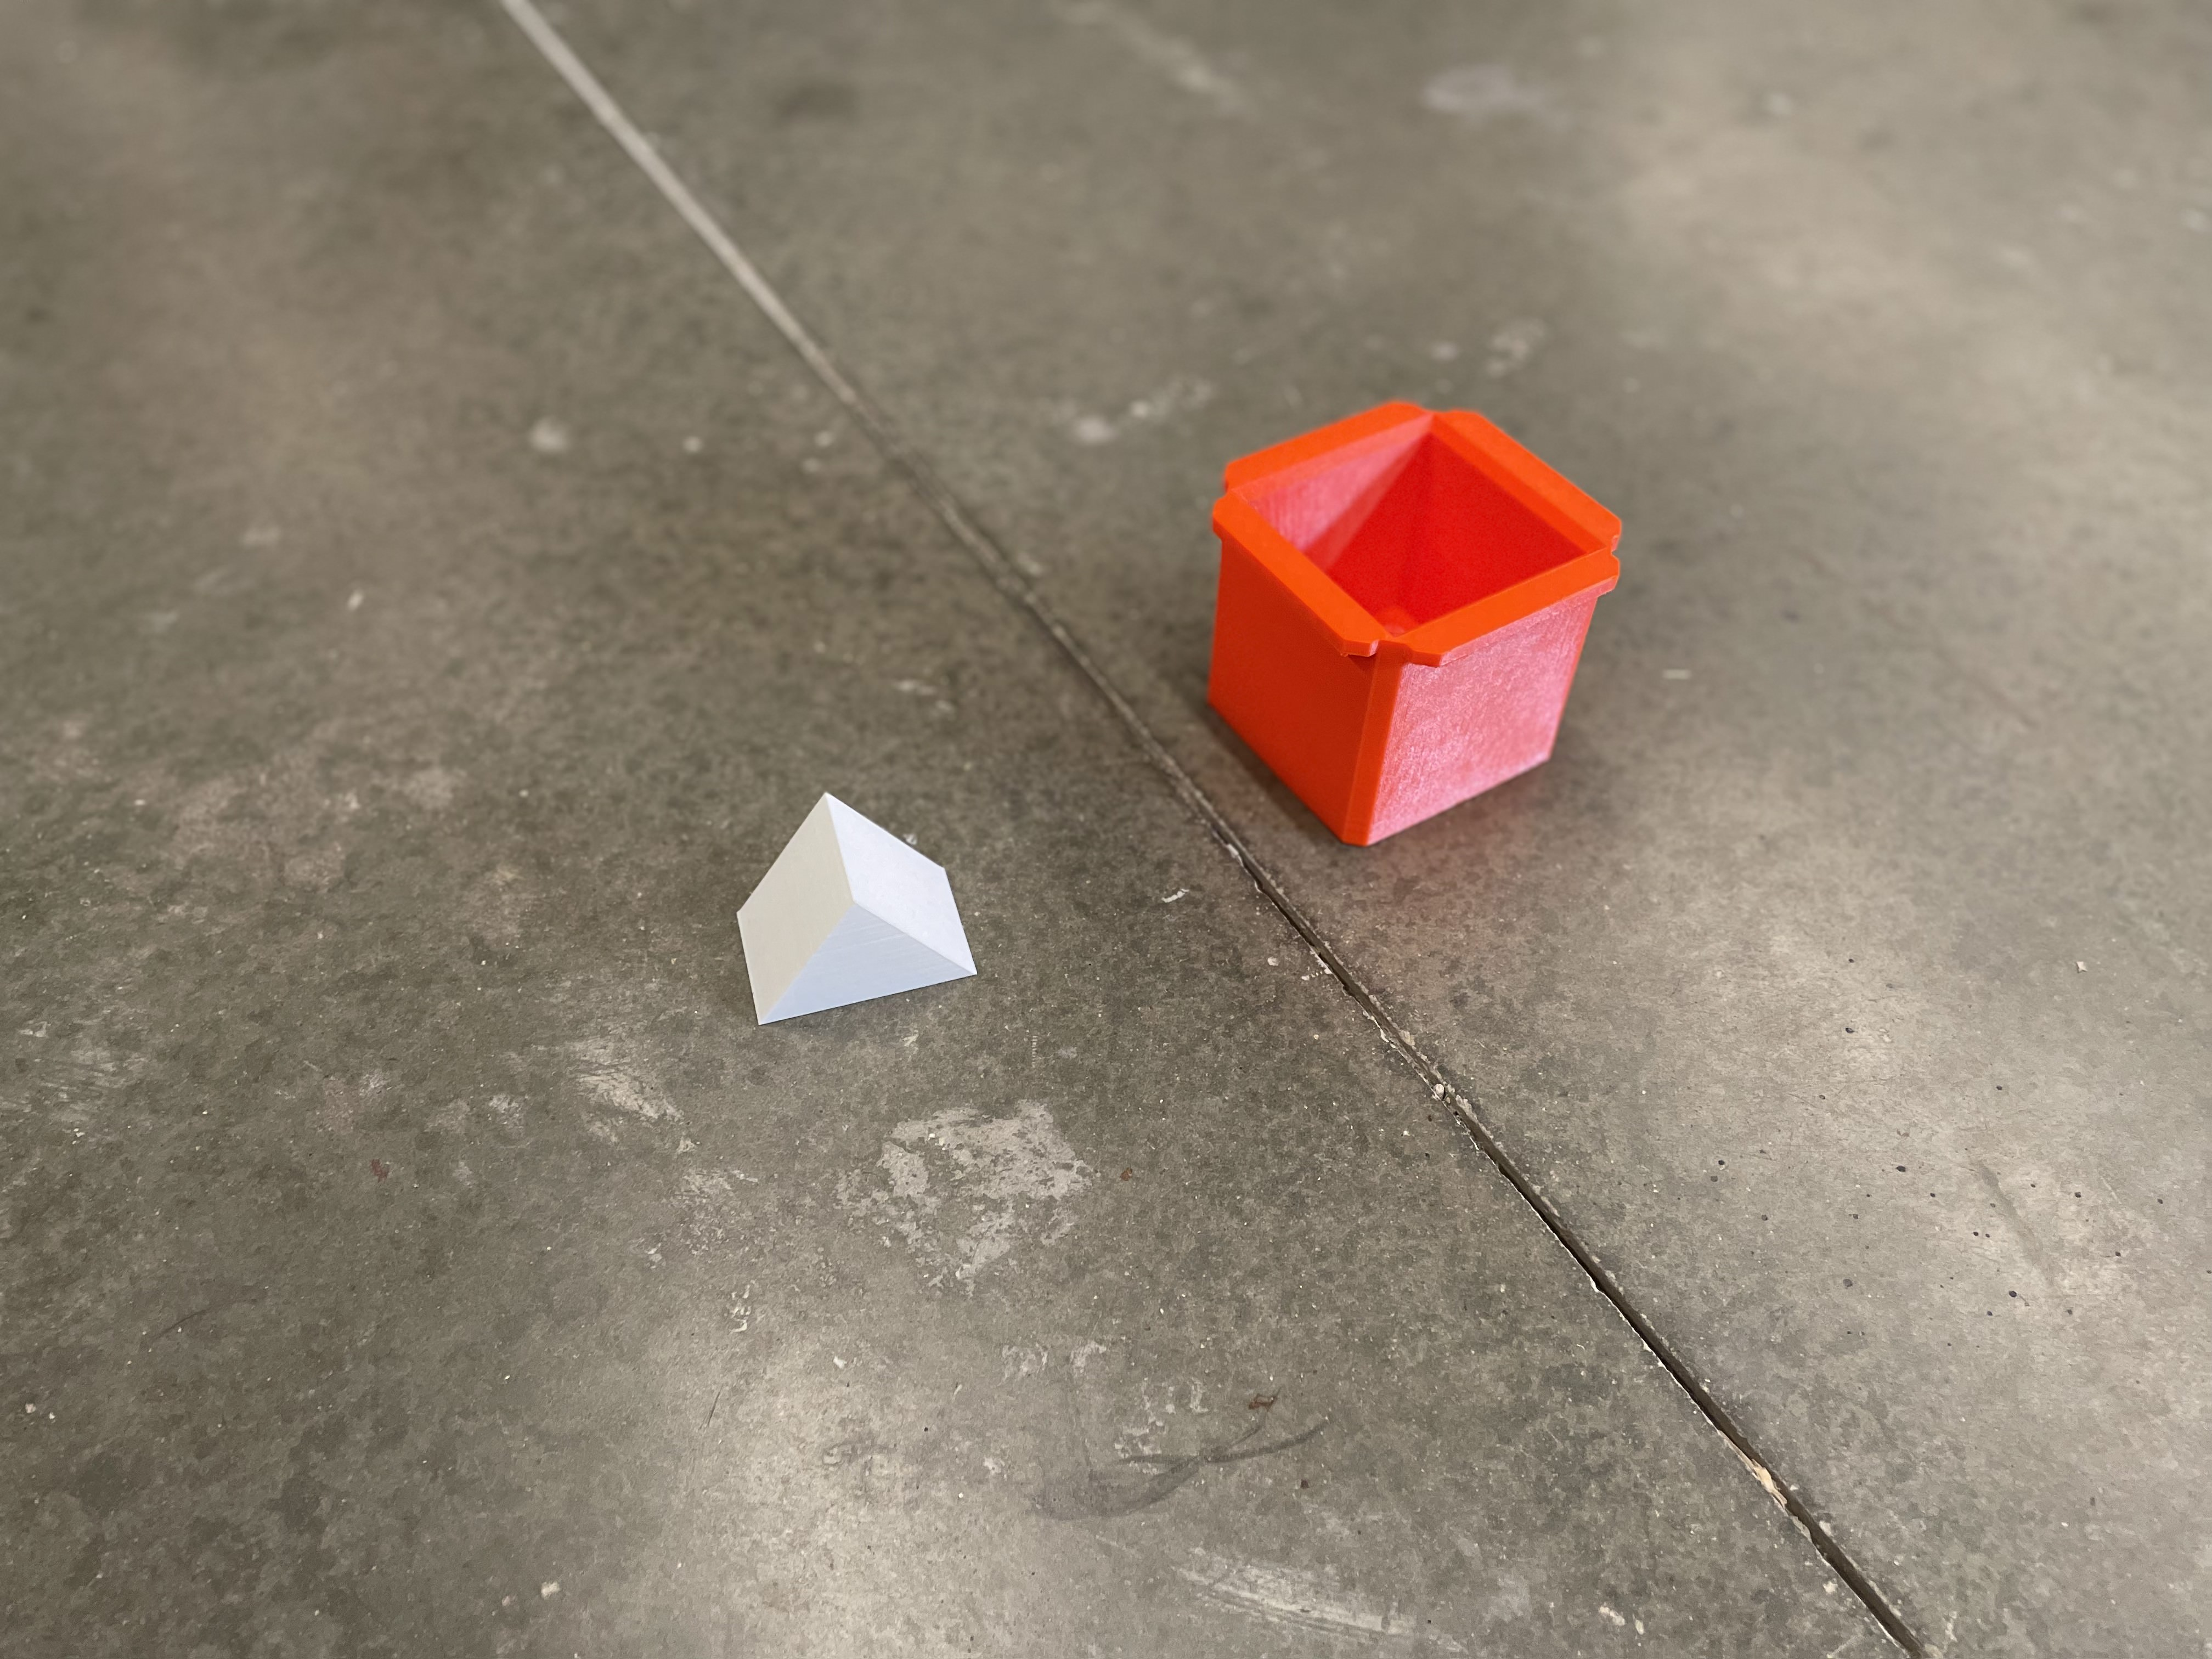payload1: (1169, 382, 1644, 854)
payload2: (702, 756, 1024, 1033)
